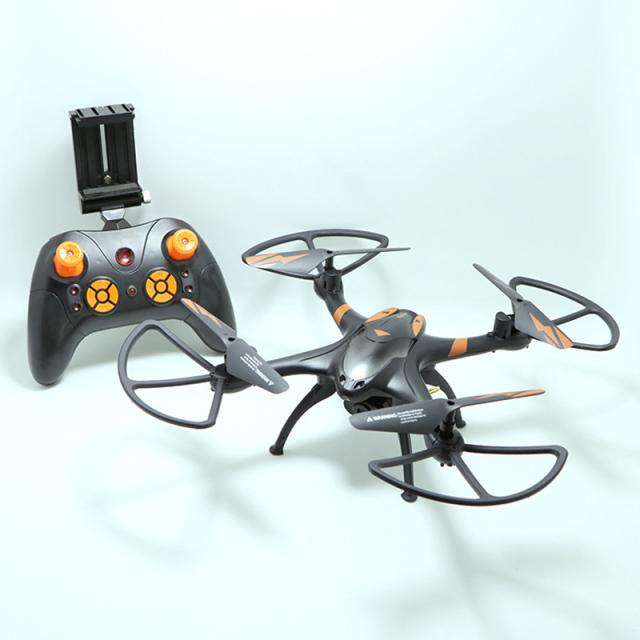drone: (123, 230, 637, 521)
